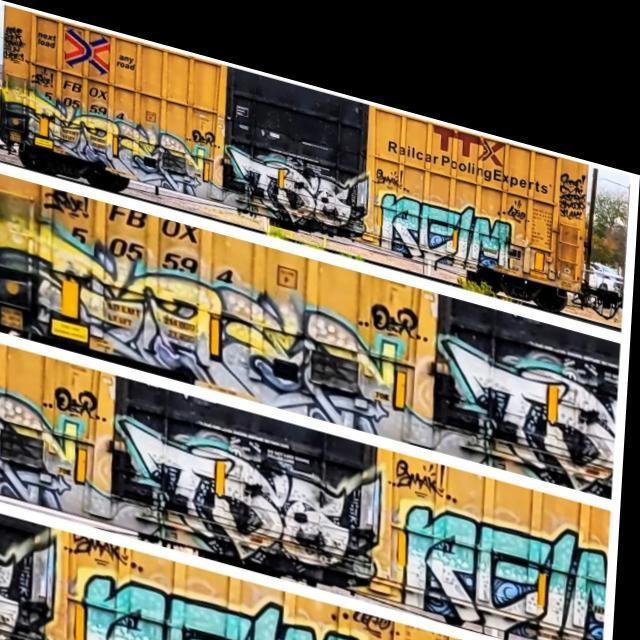-: (0, 202, 441, 424), (113, 402, 388, 584), (398, 471, 618, 636), (68, 539, 396, 640), (435, 302, 624, 468), (1, 72, 228, 191), (0, 381, 118, 533), (223, 123, 373, 223), (374, 164, 518, 264), (0, 503, 71, 640), (366, 267, 435, 326), (392, 430, 462, 482), (50, 372, 114, 426), (44, 180, 101, 222), (557, 138, 588, 194), (0, 17, 30, 72), (498, 170, 531, 202), (372, 146, 406, 172)
